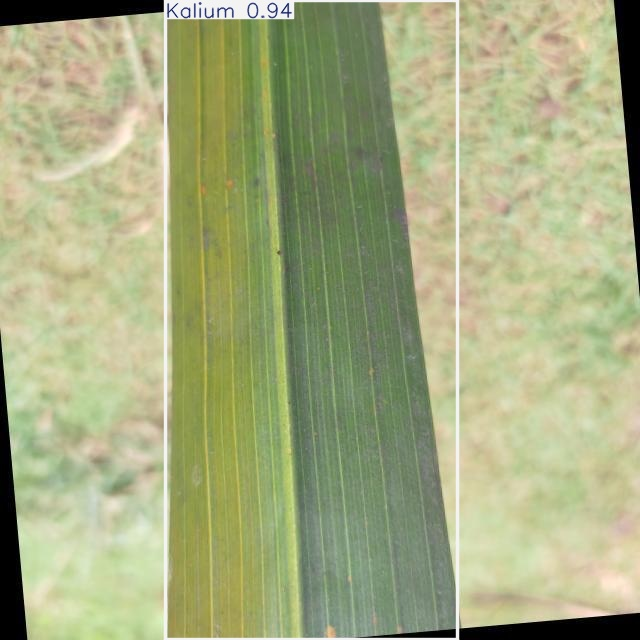Kalium: (166, 0, 458, 640)
